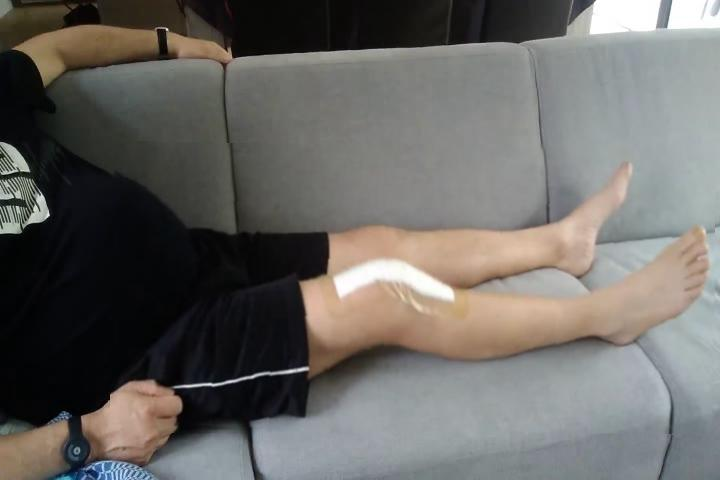lower_body: (112, 144, 716, 434)
